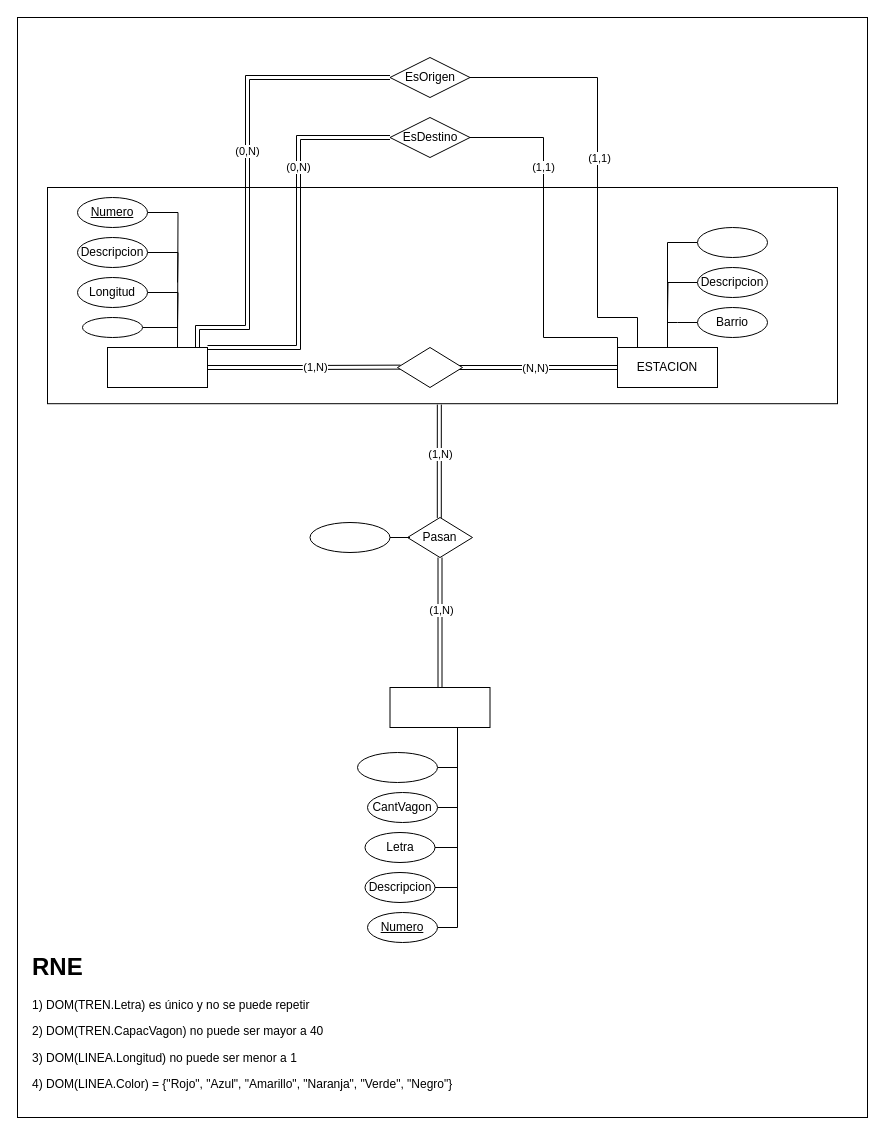
Some shapes in this 885 by 1135 pixel diagram are drawn without their labels. Each missing label, with the centre of its shape:
CapacVagon: the point at 397,767
Codigo: the point at 732,242
Color: the point at 112,327
FechaYHora: the point at 349,537
LINEA: the point at 157,367
Poseen: the point at 429,367
TREN: the point at 439,707
